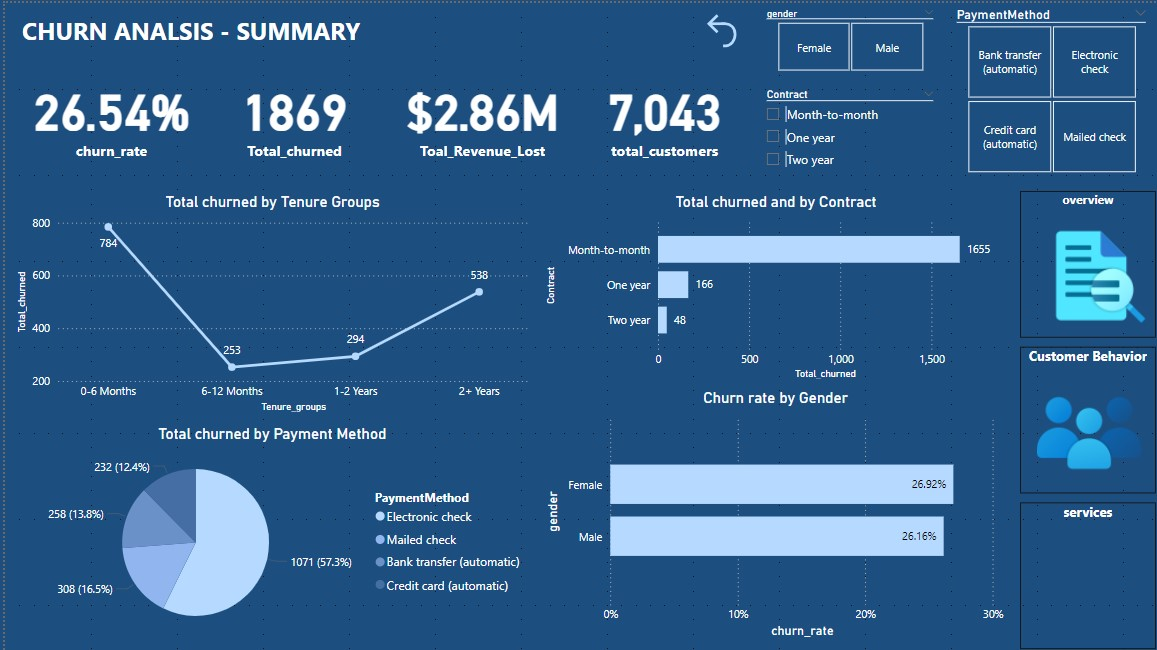

Layout of this report page (visuals, bound fields, positions):
{"tool":"powerbi","page":{"name":"overview","canvas":[1280,720],"ordinal":0},"visuals":[{"type":"image","box":[1134.9,235.4,145.1,135.4],"z":0,"group":"g2"},{"type":"image","box":[1136,593,135,110],"z":500,"group":"g2"},{"type":"textbox","box":[14,7,444,52],"z":1000},{"type":"image","box":[1136.5,410.8,135.2,126.2],"z":1000,"group":"g2"},{"type":"card","fields":{"Values":["measures (2).Revenue Lost"]},"box":[421,51,219,149],"z":2000},{"type":"pageNavigator","box":[1128,209,151.6,511],"z":2000,"group":"g2"},{"type":"card","fields":{"Values":["measures (2).churn_rate"]},"box":[14,51,208,149],"z":3000},{"type":"card","fields":{"Values":["measures (2).Total_churned"]},"box":[222,51,199,149],"z":4000},{"type":"lineChart","title":"Total churned by Tenure Groups","fields":{"Category":["Tenure_maping.Tenure_Buckets"],"Y":["measures (2).Total_churned"]},"box":[8,211,579,248],"z":5000},{"type":"card","fields":{"Values":["measures (2).total_customers"]},"box":[640,51.3,185.6,148.7],"z":6000},{"type":"clusteredBarChart","title":"Total churned and by Contract","fields":{"Category":["Customer_Churn.Contract"],"Y":["measures (2).Total_churned"]},"box":[595.3,211.4,522.1,211.4],"z":7000},{"type":"slicer","fields":{"Values":["Customer_Churn.gender"]},"box":[833,0.2,210.6,82.4],"z":8000,"group":"g1"},{"type":"pieChart","title":"Total churned by Payment Method","fields":{"Y":["measures (2).Total_churned"],"Category":["Customer_Churn.PaymentMethod"]},"box":[8.1,468.8,578.1,242.1],"z":8000},{"type":"slicer","fields":{"Values":["Customer_Churn.Contract"]},"box":[833,89.5,210.7,109.5],"z":9000,"group":"g1"},{"type":"barChart","title":"Churn rate by Gender","fields":{"Category":["Customer_Churn.gender"],"Y":["measures (2).churn_rate"]},"box":[595.3,429.1,521.2,281.8],"z":9000},{"type":"slicer","fields":{"Values":["Customer_Churn.PaymentMethod"]},"box":[1043.8,0,236.2,194.9],"z":10000,"group":"g1"},{"type":"actionButton","box":[767,7,59,44],"z":10000},{"type":"group","id":"g1","title":"Group 2","box":[833,0,447,199],"z":11000},{"type":"group","id":"g2","title":"Group 1","box":[1128,209,152,511],"z":12000}]}

Visuals, with their boxes in screenshot pixels (x1, y1, x2, y2), scaled from the page's 1280x720 canvas onto the 1157x650 screenshot:
image: 1026:213:1156:335
image: 1027:535:1149:635
textbox: 13:6:414:53
image: 1027:371:1149:485
card - measures (2).Revenue Lost: 381:46:578:181
pageNavigator: 1020:189:1156:649
card - measures (2).churn_rate: 13:46:201:181
card - measures (2).Total_churned: 201:46:381:181
"Total churned by Tenure Groups" lineChart: 7:190:531:414
card - measures (2).total_customers: 578:46:746:181
"Total churned and by Contract" clusteredBarChart: 538:191:1010:382
slicer - Customer_Churn.gender: 753:0:943:75
"Total churned by Payment Method" pieChart: 7:423:530:642
slicer - Customer_Churn.Contract: 753:81:943:180
"Churn rate by Gender" barChart: 538:387:1009:642
slicer - Customer_Churn.PaymentMethod: 943:0:1156:176
actionButton: 693:6:747:46
"Group 2" group: 753:0:1156:180
"Group 1" group: 1020:189:1156:649
